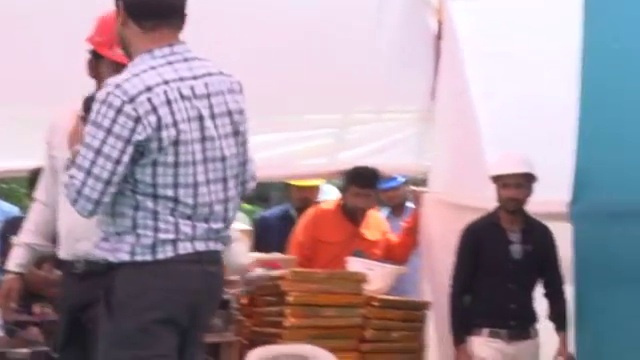helmet: (83, 10, 132, 65), (344, 255, 405, 290), (486, 152, 539, 184), (376, 174, 409, 192)
helmet_off: (338, 166, 385, 224), (279, 181, 324, 210)
helmet_on: (81, 11, 133, 94), (486, 152, 539, 221), (375, 174, 410, 209)
person: (47, 0, 257, 354), (0, 9, 132, 347), (449, 146, 564, 360), (283, 166, 393, 267), (255, 177, 327, 251), (376, 171, 418, 234)
